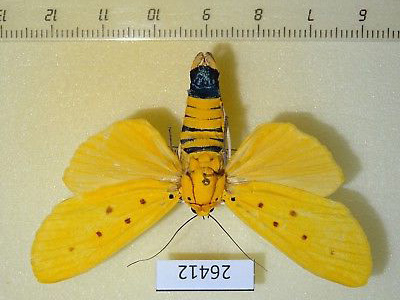Agape chloropyga: (26, 45, 373, 290)
moth: (28, 47, 375, 292)
